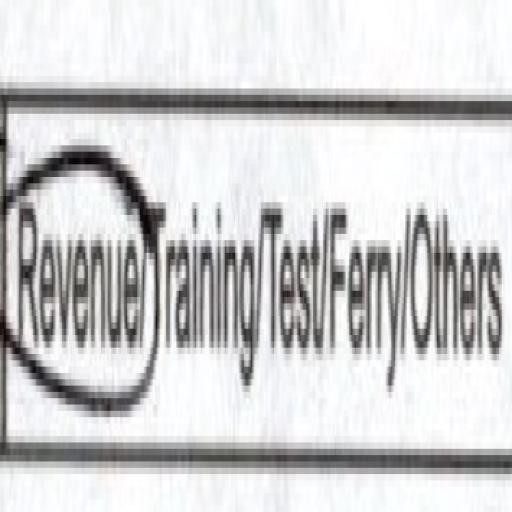check: (0, 19, 143, 480)
